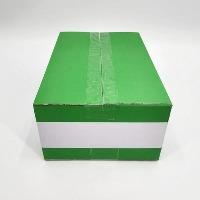undamaged: (29, 27, 175, 167)
